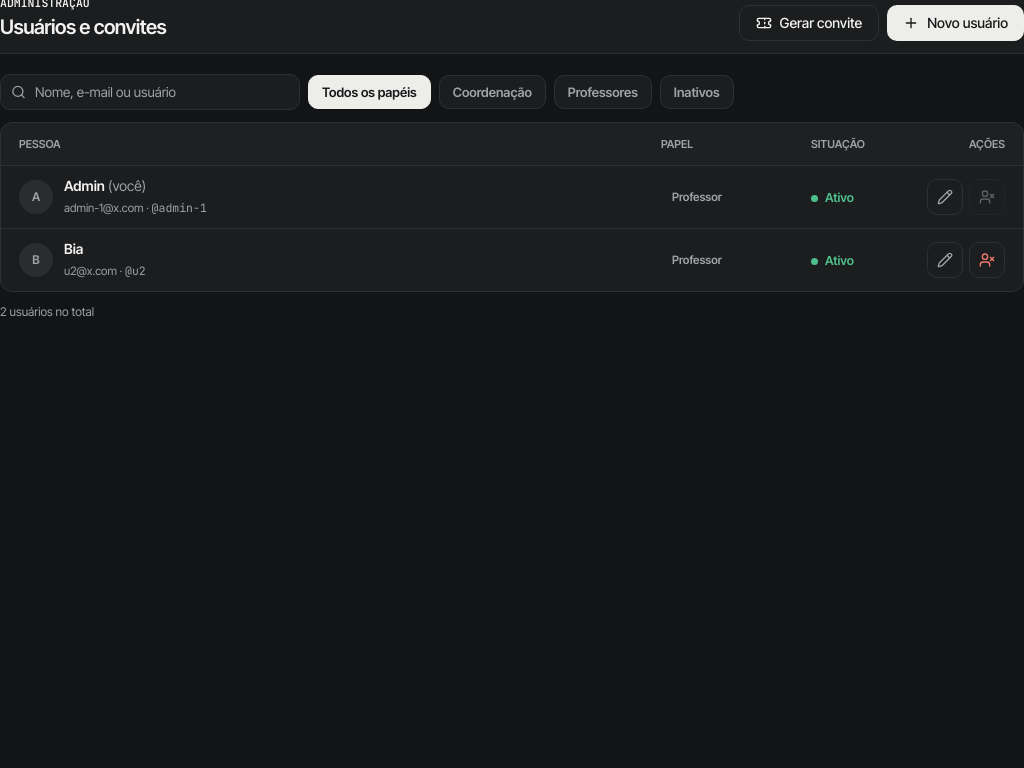
Test: UsersPage — redefinir senha (B-S5) › editando a si mesmo, não mostra o campo de senha
Click the button named "Editar Admin": (945, 197) x1=927 y1=179 x2=963 y2=215
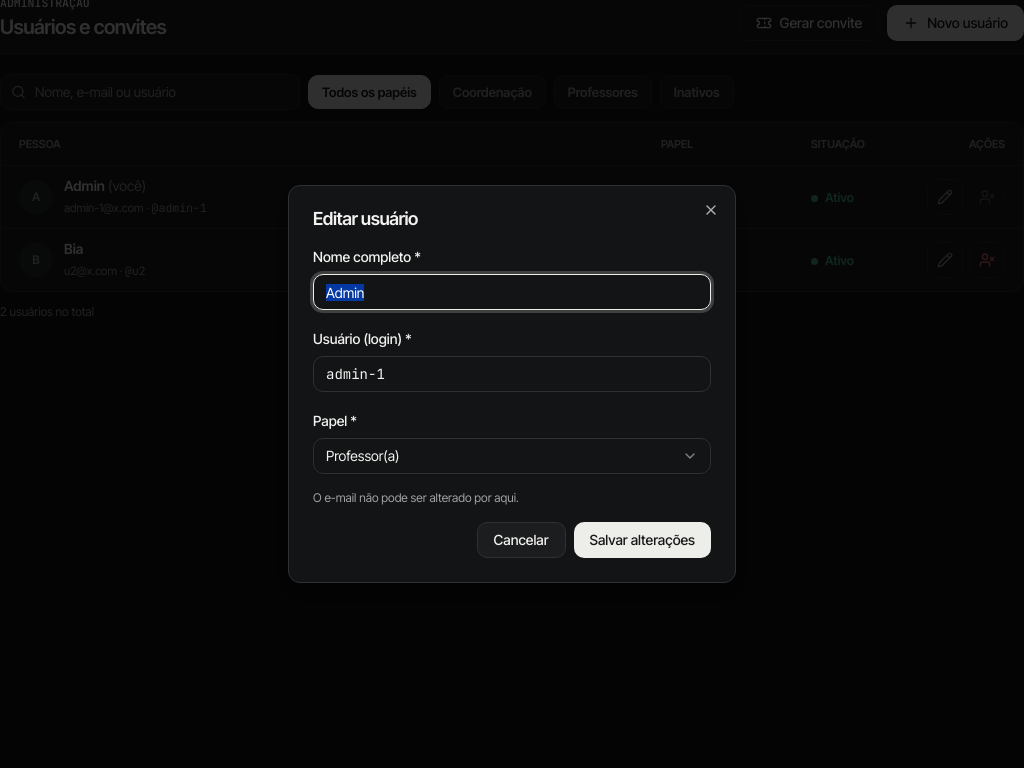
Result: the field labelled "Nome completo *" is shown at x1=313 y1=274 x2=711 y2=310
